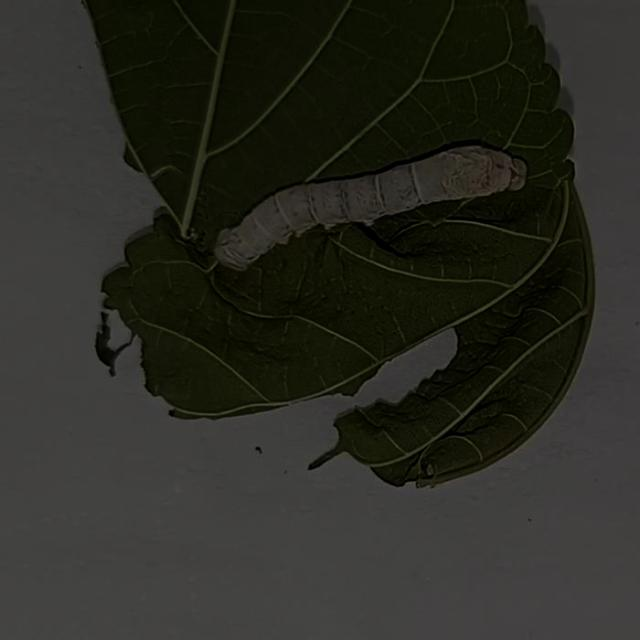Healthy: (183, 124, 535, 284)
